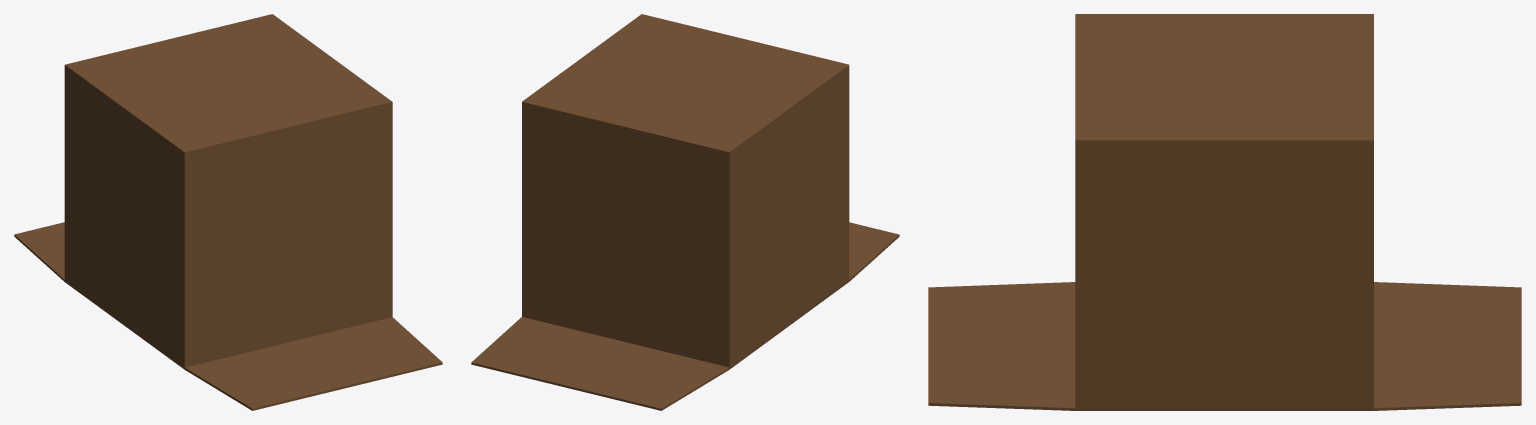
The model's file is caixa cabeça p baixo.fbx.
3 renders of one model, left to right at view 1: azimuth 30°, elevation 25°; view 2: azimuth 150°, elevation 25°; view 3: azimuth 270°, elevation 25°, orthographic. The views are drawn at different scales.
Visible parts, largest first — view 1: Cube.001; view 2: Cube.001; view 3: Cube.001.
Part boxes in pixels (x1,y1,x2,y2): Cube.001: (14, 14, 442, 410); Cube.001: (471, 14, 899, 410); Cube.001: (928, 14, 1521, 410).
Size of the model in its own units: 95.06 by 95.06 by 189.
